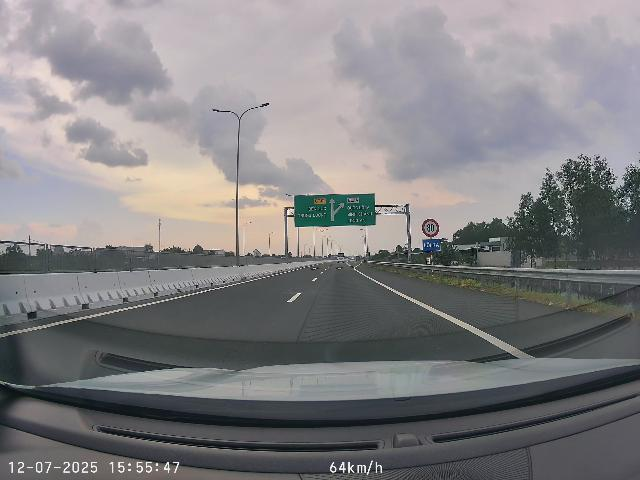127-toc-do-toi-da-80: (422, 219, 440, 237)
